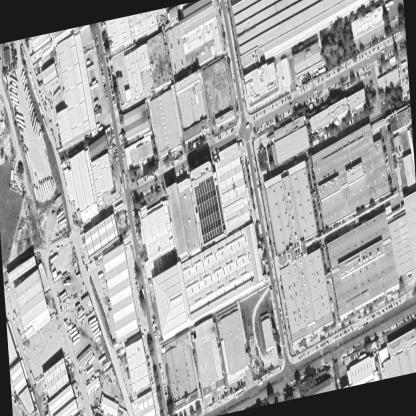solar-pv-panel: (194, 175, 223, 243), (216, 185, 224, 223)
